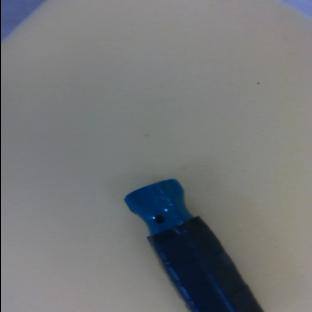part_2_bad: (119, 167, 263, 312)
